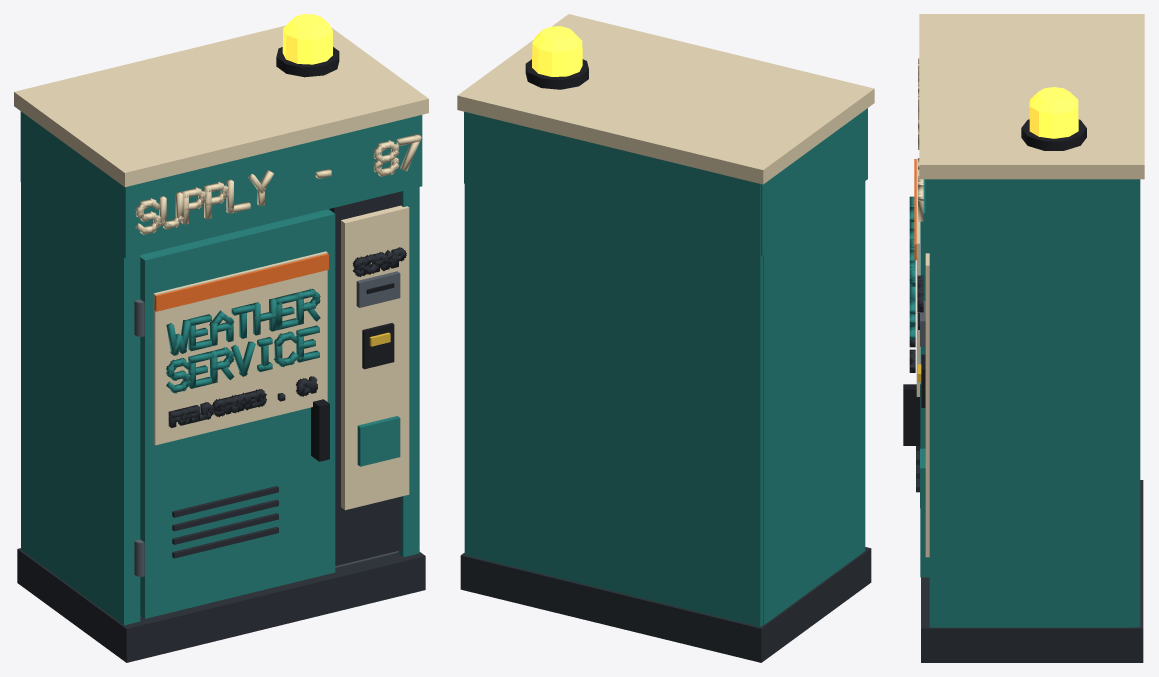
Rendered from crate_station.glb.
3 views of the same model, side by side, from view 1: azimuth 30°, elevation 25°; view 2: azimuth 150°, elevation 25°; view 3: azimuth 270°, elevation 25° (orthographic).
Parts seen in each view (by area): view 1: Merged2, Merged, Tubes, Tubes4, Beacon, Tubes2, Tubes3; view 2: Merged2, Beacon; view 3: Merged2, Merged, Beacon, Tubes, Tubes4.
Part boxes in pixels (x1,y1,x2,y2): Merged2: [14, 25, 428, 662]; Merged: [134, 209, 335, 618]; Tubes: [166, 288, 320, 393]; Tubes4: [135, 134, 421, 235]; Beacon: [282, 14, 332, 64]; Tubes2: [168, 376, 317, 427]; Tubes3: [352, 247, 406, 276]; Merged2: [457, 14, 874, 662]; Beacon: [532, 26, 582, 76]; Merged2: [917, 14, 1144, 662]; Merged: [903, 158, 929, 577]; Beacon: [1029, 87, 1078, 138]; Tubes: [909, 196, 915, 339]; Tubes4: [918, 58, 923, 221].
Bounding box in the file's own units: 1.22 × 2.05 × 0.8255.
